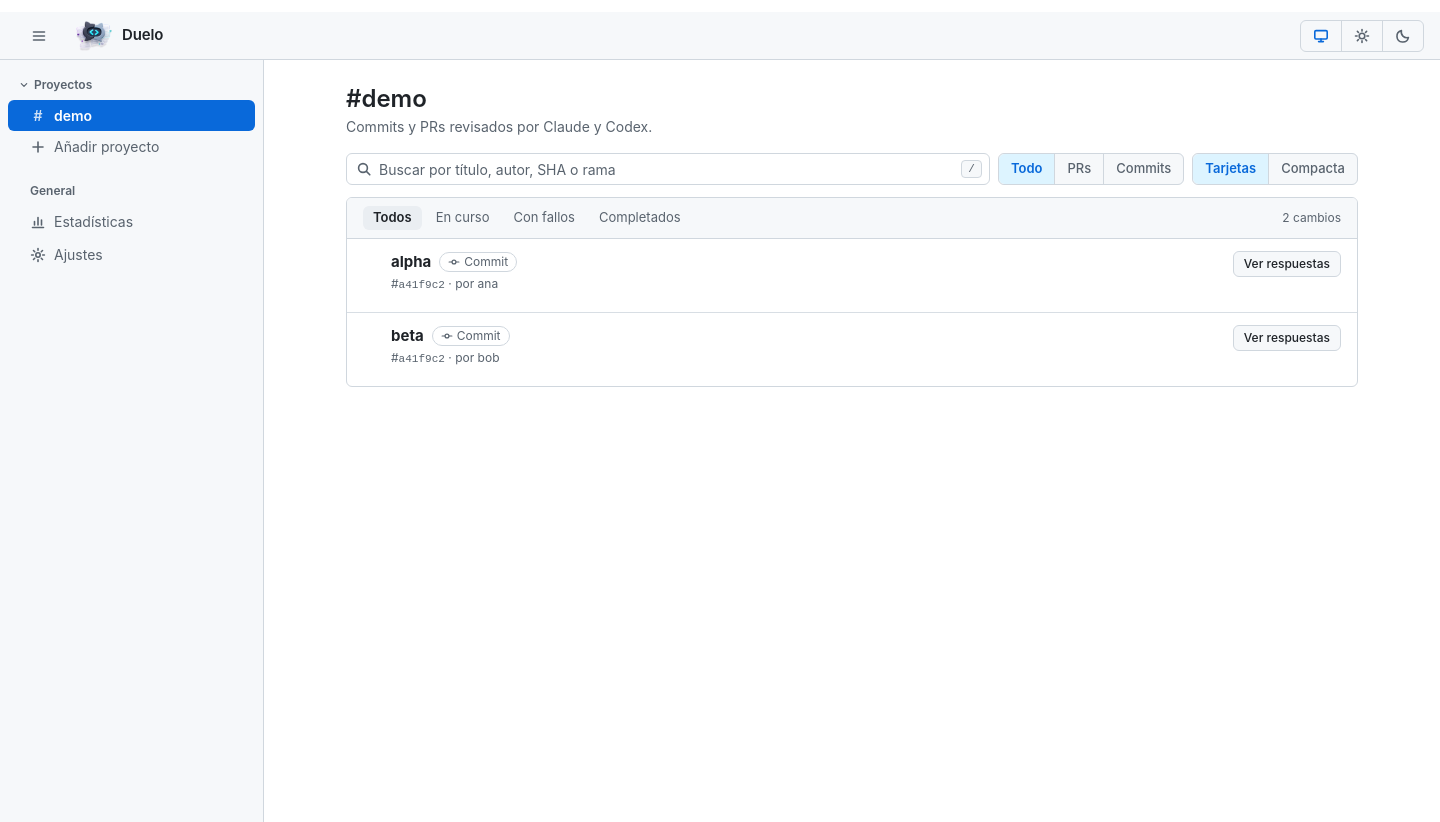
compact channel › toggles density and keeps the search and the thread controls
Check: the text "alpha" is shown, box x1=391 y1=252 x2=431 y2=270
Type "ana" into the search field.
click(668, 169); type("ana")  # box x1=346 y1=153 x2=990 y2=185
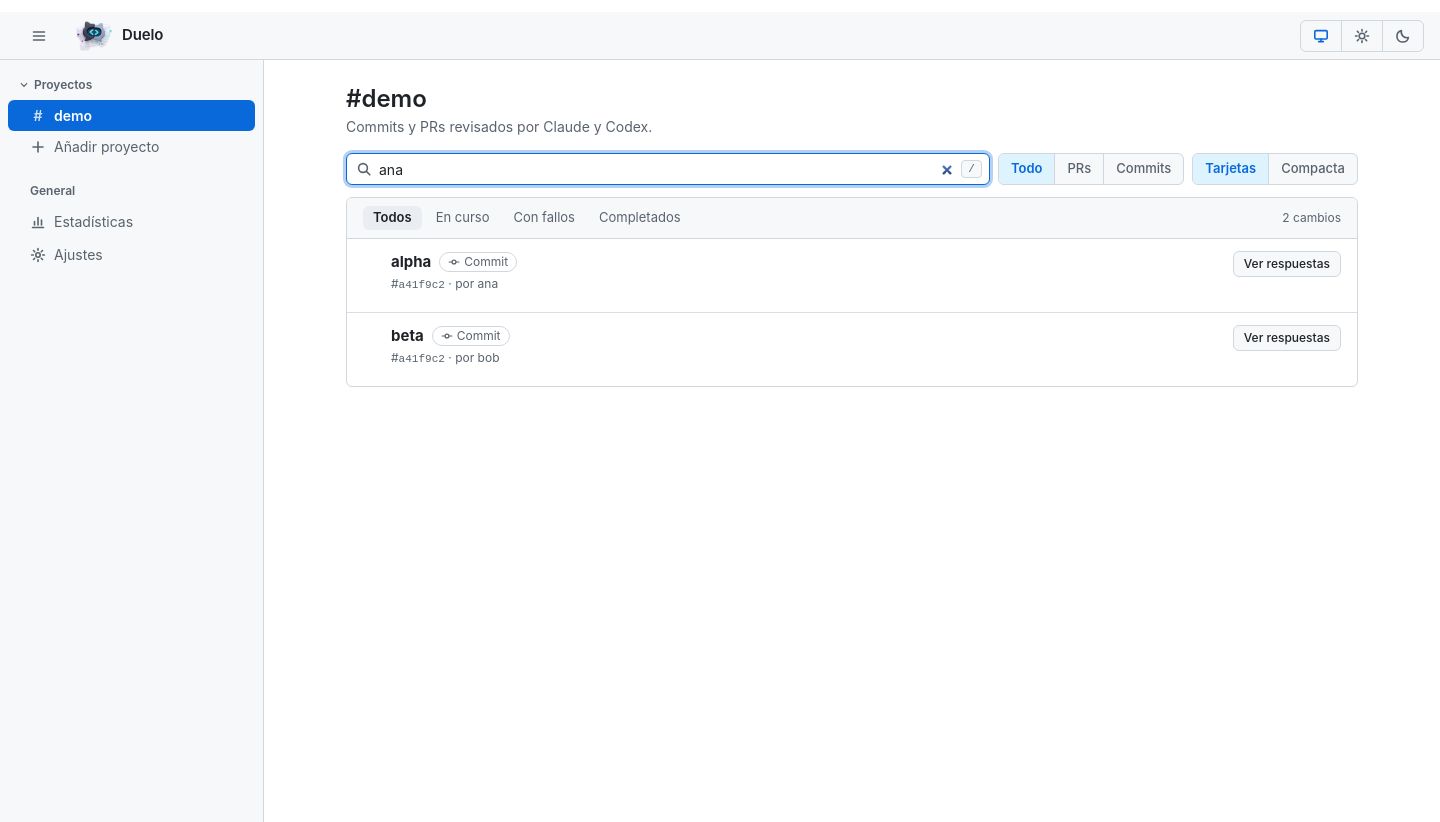
Click the button "Compacta".
click(1313, 169)  # box x1=1268 y1=154 x2=1357 y2=184
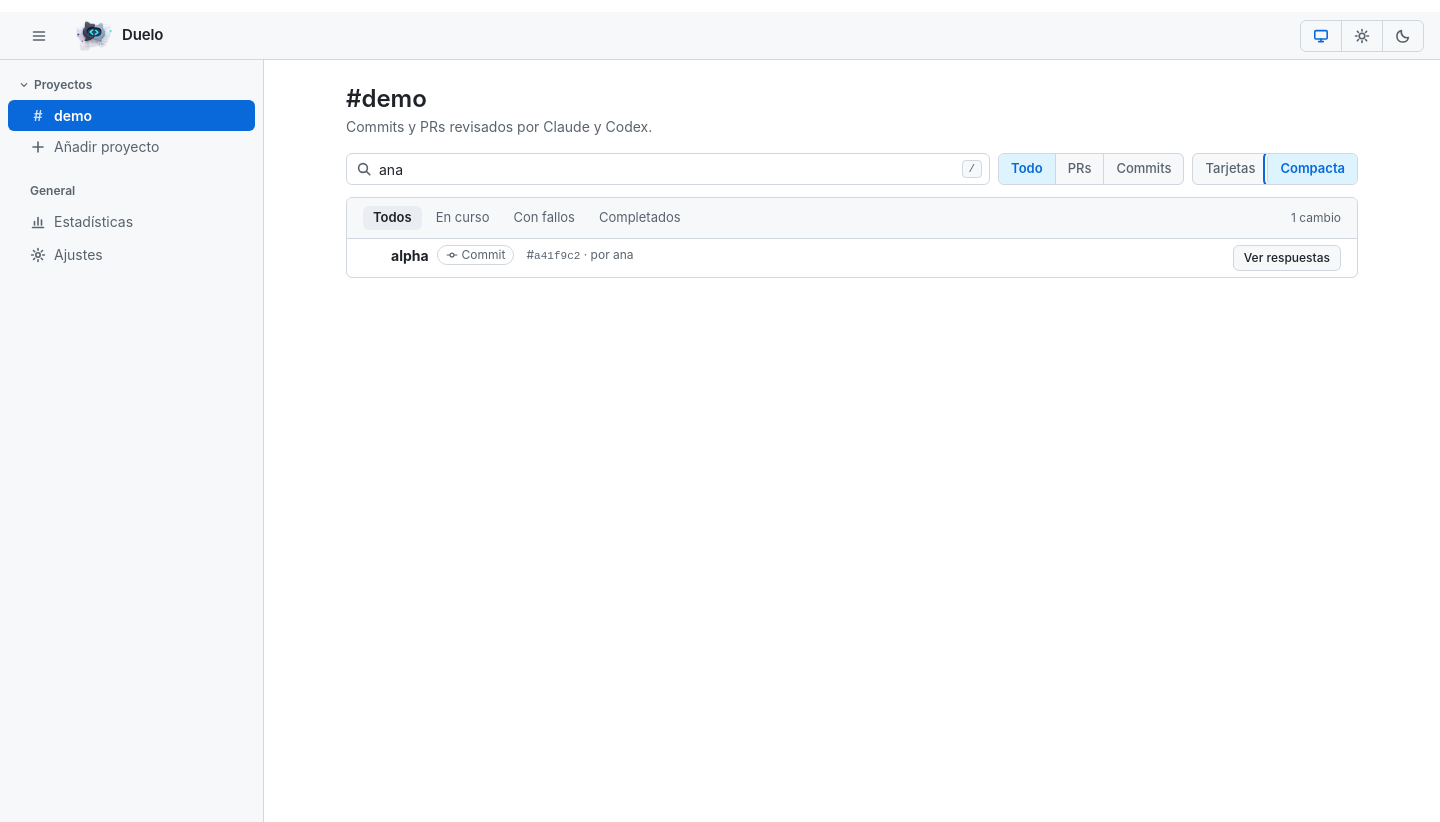
Check: the button "Ver respuestas" is shown, box x1=1233 y1=244 x2=1341 y2=270
Check: the link "beta" is gone
Check: the number of elements with class "change-row" is 1, box x1=347 y1=238 x2=1357 y2=276
